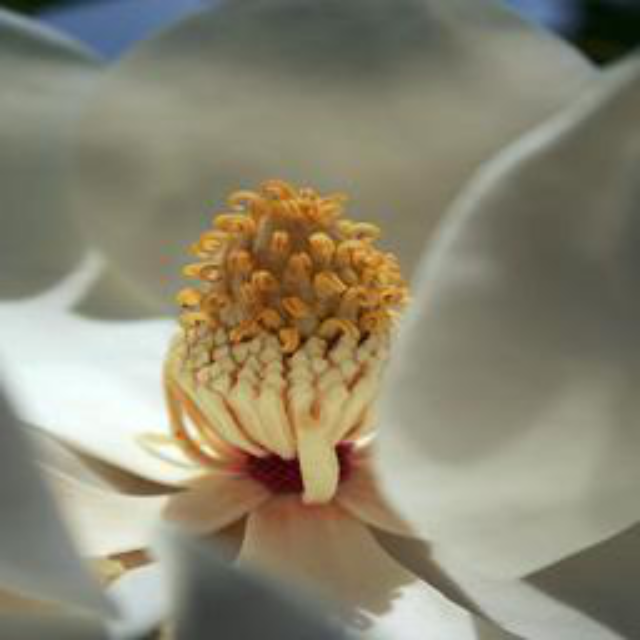magnolia: (1, 4, 637, 634)
